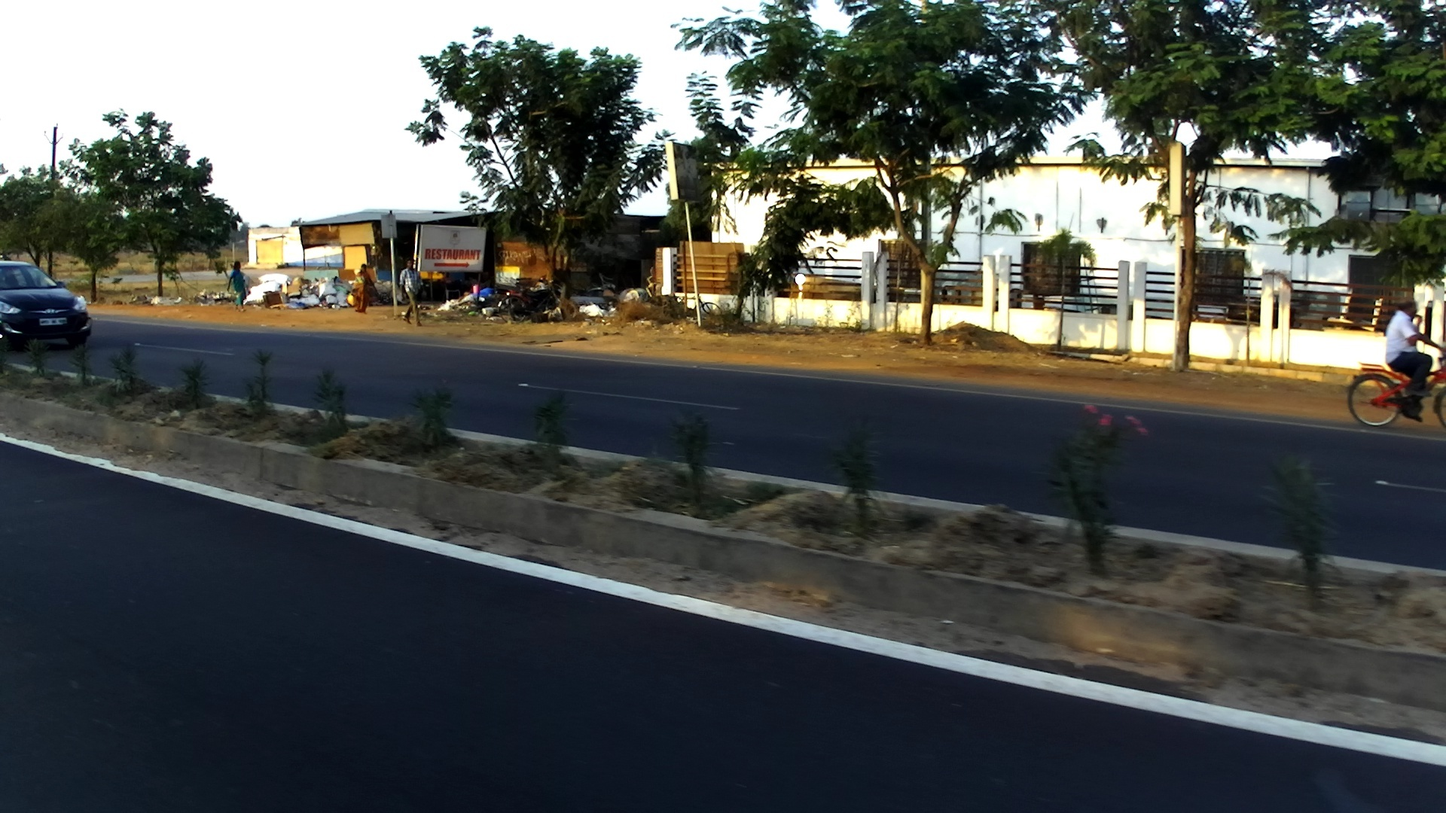bicycle: (499, 279, 555, 324)
car: (2, 260, 93, 349)
motorcycle: (1348, 341, 1446, 431), (505, 273, 570, 328), (654, 282, 720, 327)
person: (395, 257, 426, 327), (224, 257, 253, 309), (348, 262, 378, 312)
rider: (1374, 297, 1436, 422)
